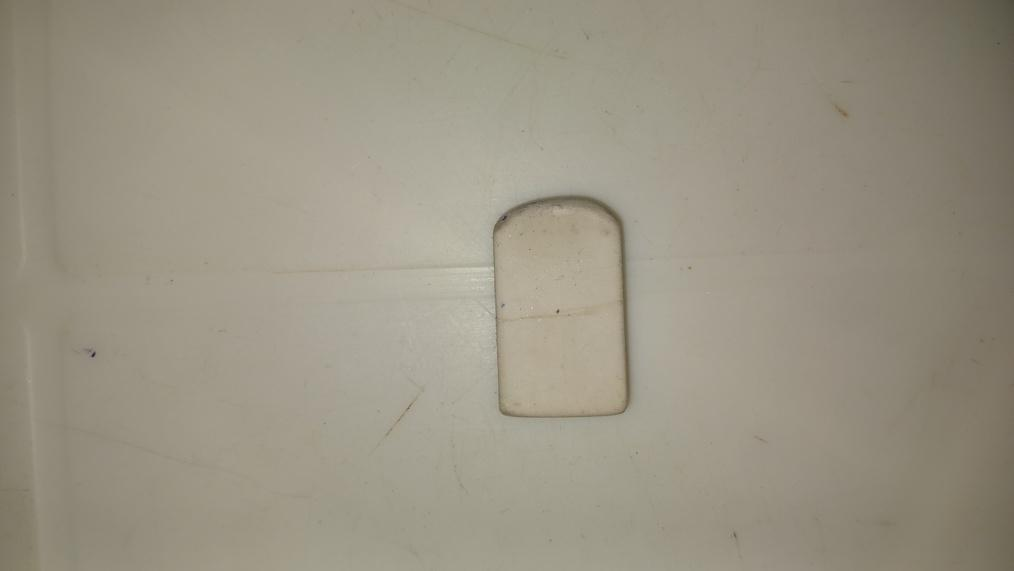Eraser: (493, 195, 632, 417)
